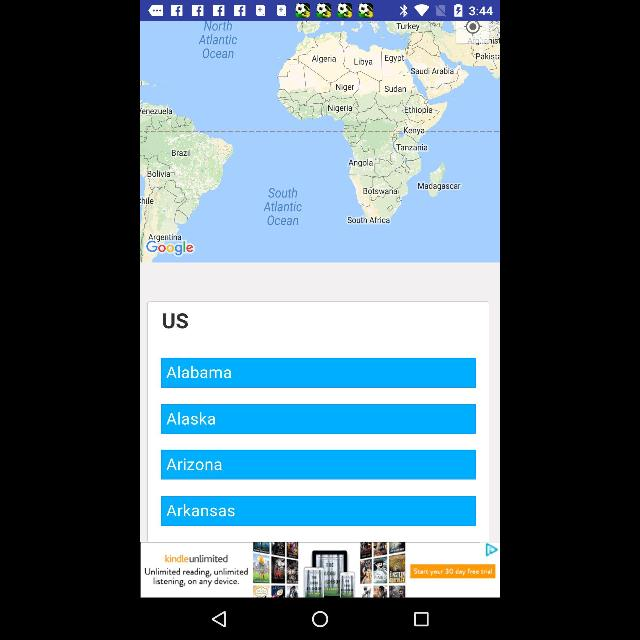icon: (212, 613, 228, 627), (312, 612, 328, 626), (414, 613, 428, 627)
iframe: (140, 541, 500, 597)
map: (140, 21, 500, 263)
panel: (146, 303, 488, 537), (141, 596, 499, 640)
text: (163, 311, 189, 329)
textbutton: (161, 357, 475, 387), (160, 449, 476, 478), (160, 405, 476, 433), (162, 498, 476, 524)
uppertaskbar: (140, 0, 500, 20)
